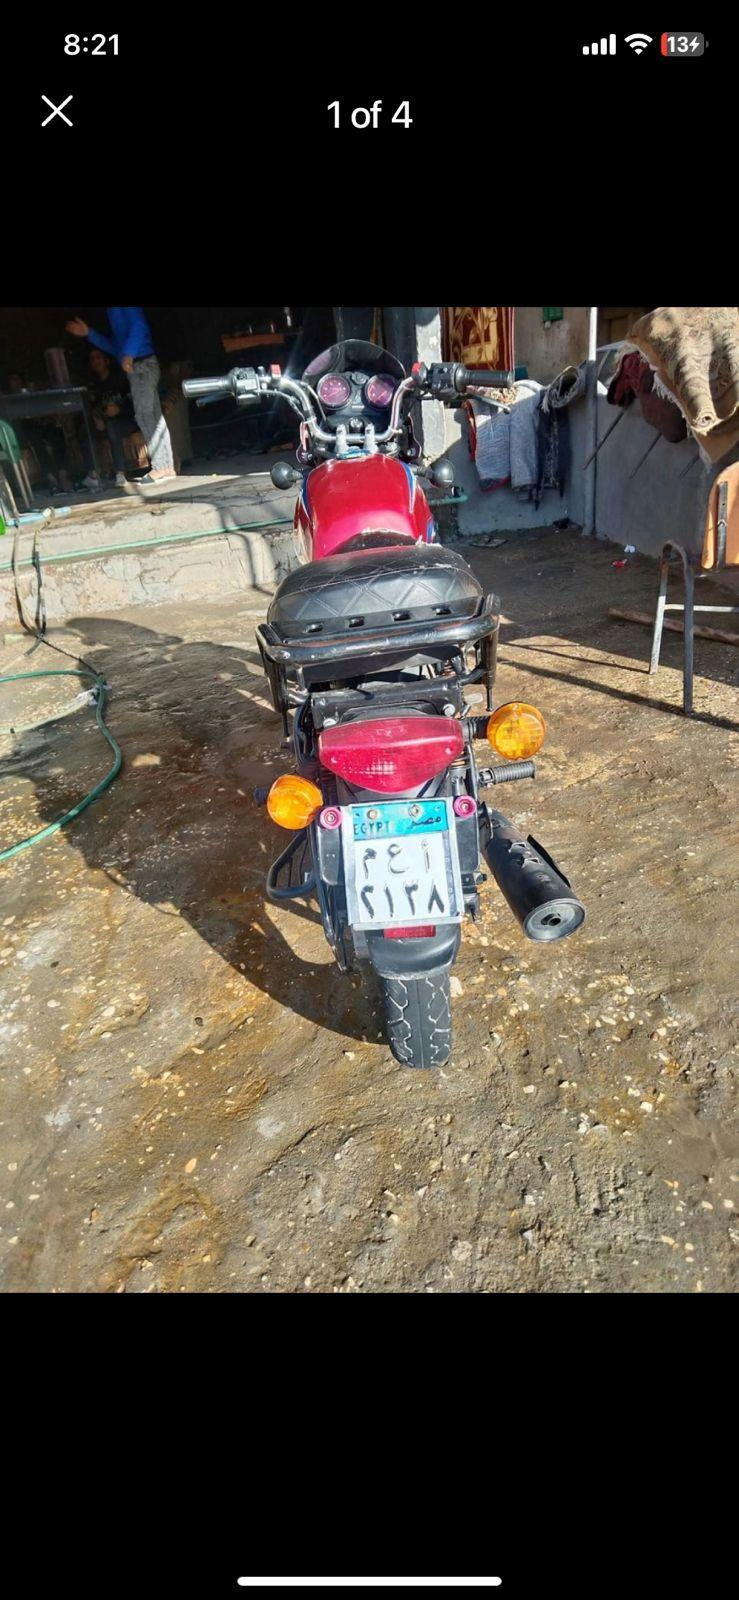License Plate: (347, 803, 460, 924)
